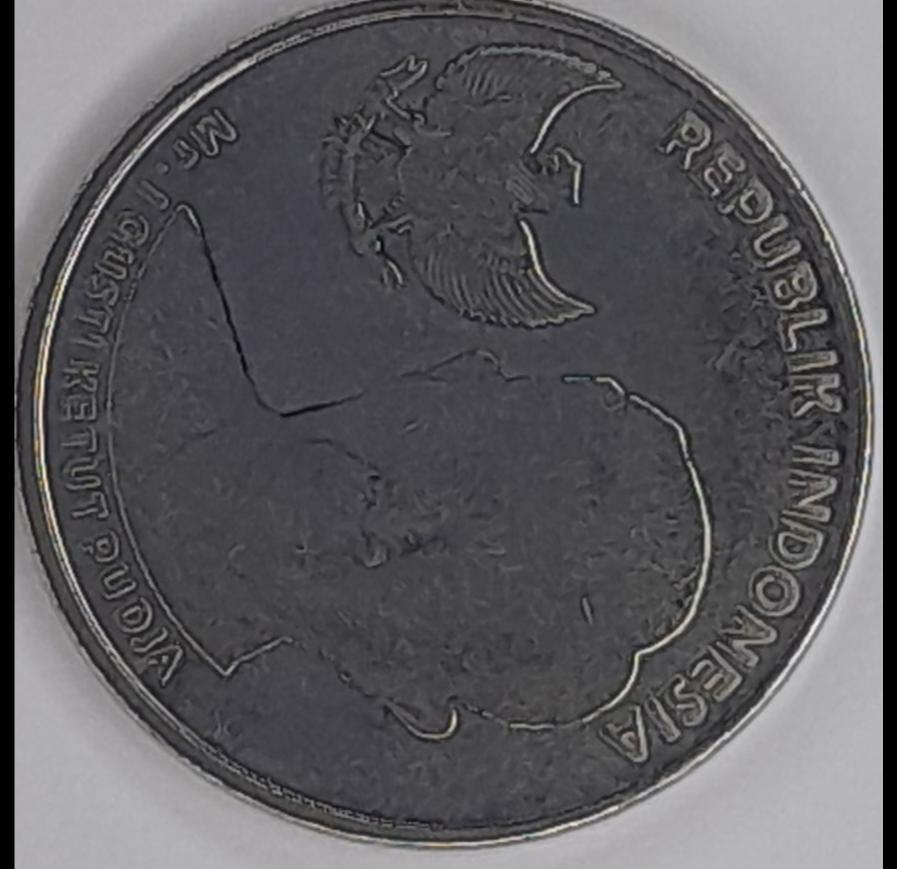coin_1000_e2016: (15, 17, 885, 869)
